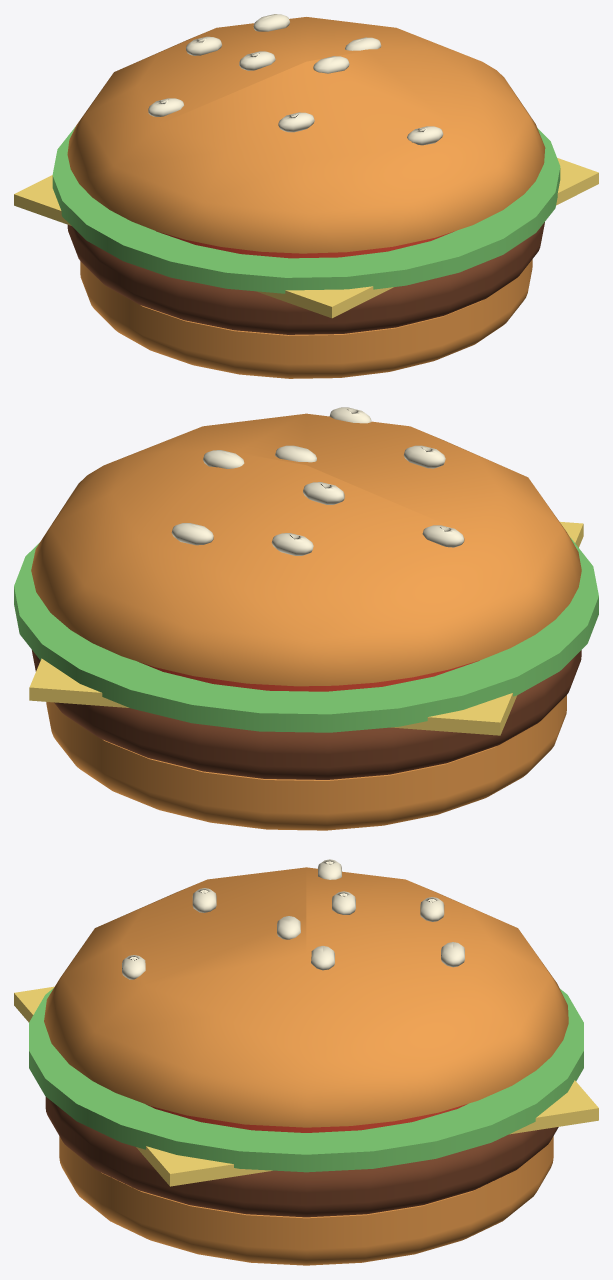
Rendered from Burger.glb.
3 renders of one model, top to bottom at view 1: azimuth 30°, elevation 25°; view 2: azimuth 150°, elevation 25°; view 3: azimuth 270°, elevation 25°, orthographic. The views are drawn at different scales.
Parts seen in each view (by area): view 1: bunTop (×2), leafLight, pattyBrown, pizzaCheese, sesame (×7), pizzaSauce; view 2: bunTop (×2), leafLight, pattyBrown, pizzaCheese, sesame (×6), pizzaSauce; view 3: bunTop (×2), leafLight, pattyBrown, pizzaCheese, pizzaSauce.
Boxes of the visible parts, bbox=[...] form: bunTop (×2): bbox=[67, 17, 545, 378]; leafLight: bbox=[52, 126, 560, 293]; pattyBrown: bbox=[67, 222, 544, 334]; pizzaCheese: bbox=[14, 158, 598, 318]; sesame (×7): bbox=[148, 14, 443, 145]; pizzaSauce: bbox=[156, 231, 454, 258]; bunTop (×2): bbox=[31, 413, 581, 830]; leafLight: bbox=[14, 537, 598, 732]; pattyBrown: bbox=[32, 650, 581, 779]; pizzaCheese: bbox=[29, 521, 583, 735]; sesame (×6): bbox=[171, 445, 464, 555]; pizzaSauce: bbox=[139, 660, 479, 691]; bunTop (×2): bbox=[44, 867, 568, 1265]; leafLight: bbox=[29, 988, 583, 1172]; pattyBrown: bbox=[45, 1097, 558, 1217]; pizzaCheese: bbox=[14, 986, 598, 1186]; pizzaSauce: bbox=[146, 1104, 467, 1132].
Size of the model in its own units: 0.423 by 0.2064 by 0.423.
